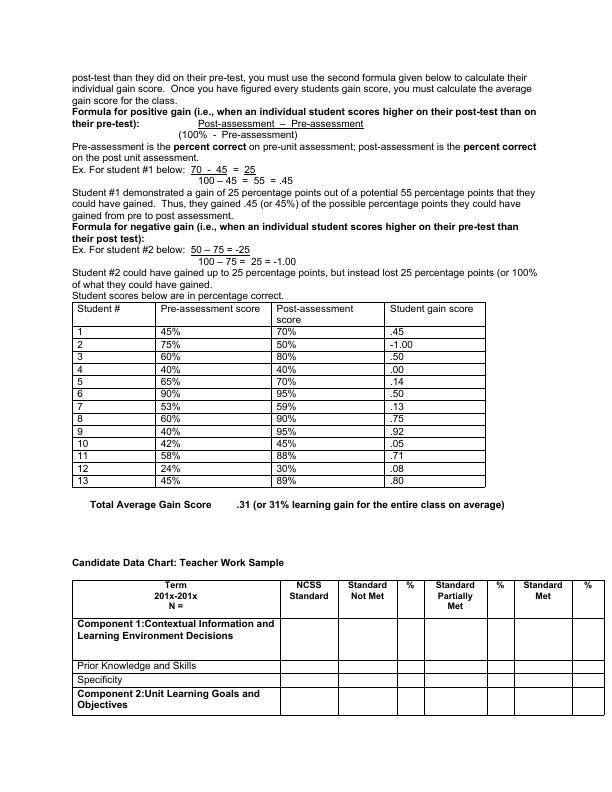table: (68, 299, 492, 493), (67, 577, 608, 721)
text: (69, 71, 541, 303), (84, 498, 511, 518), (69, 557, 290, 571)
